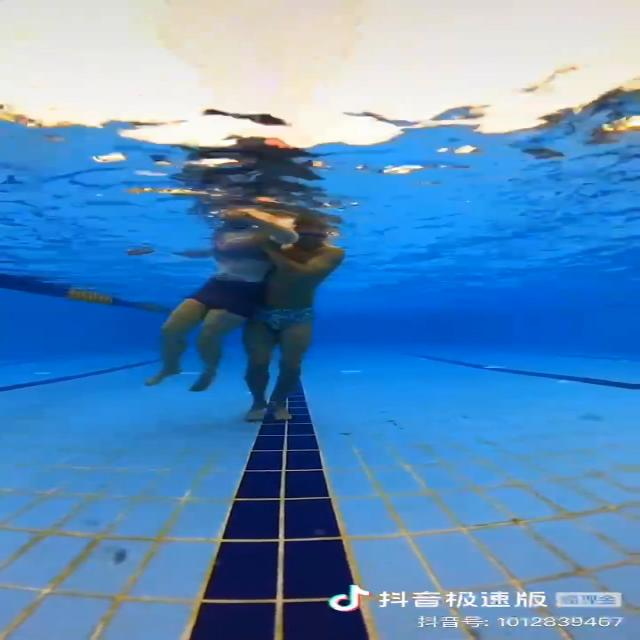Swimming: (146, 216, 294, 393), (236, 222, 346, 418)
